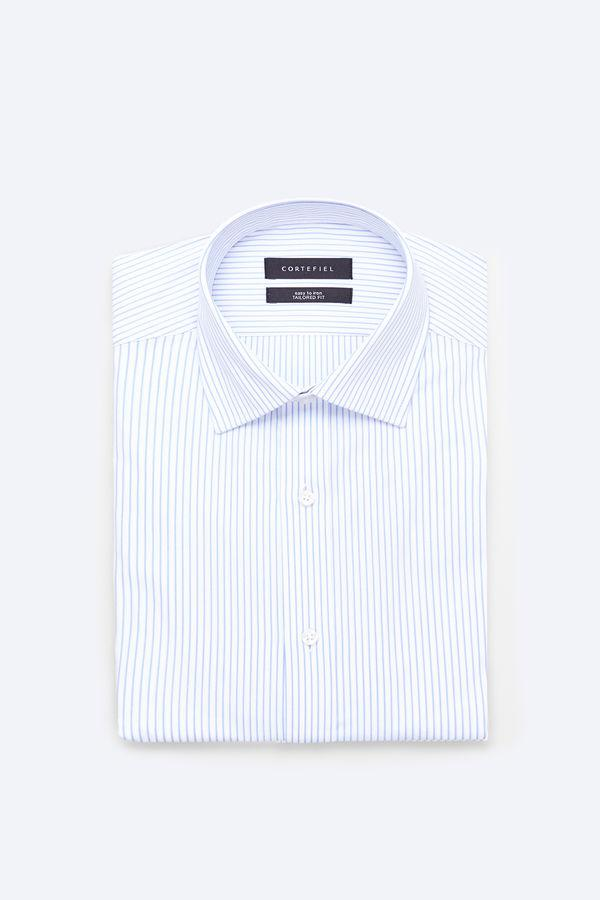teeshirt: (93, 193, 509, 784)
